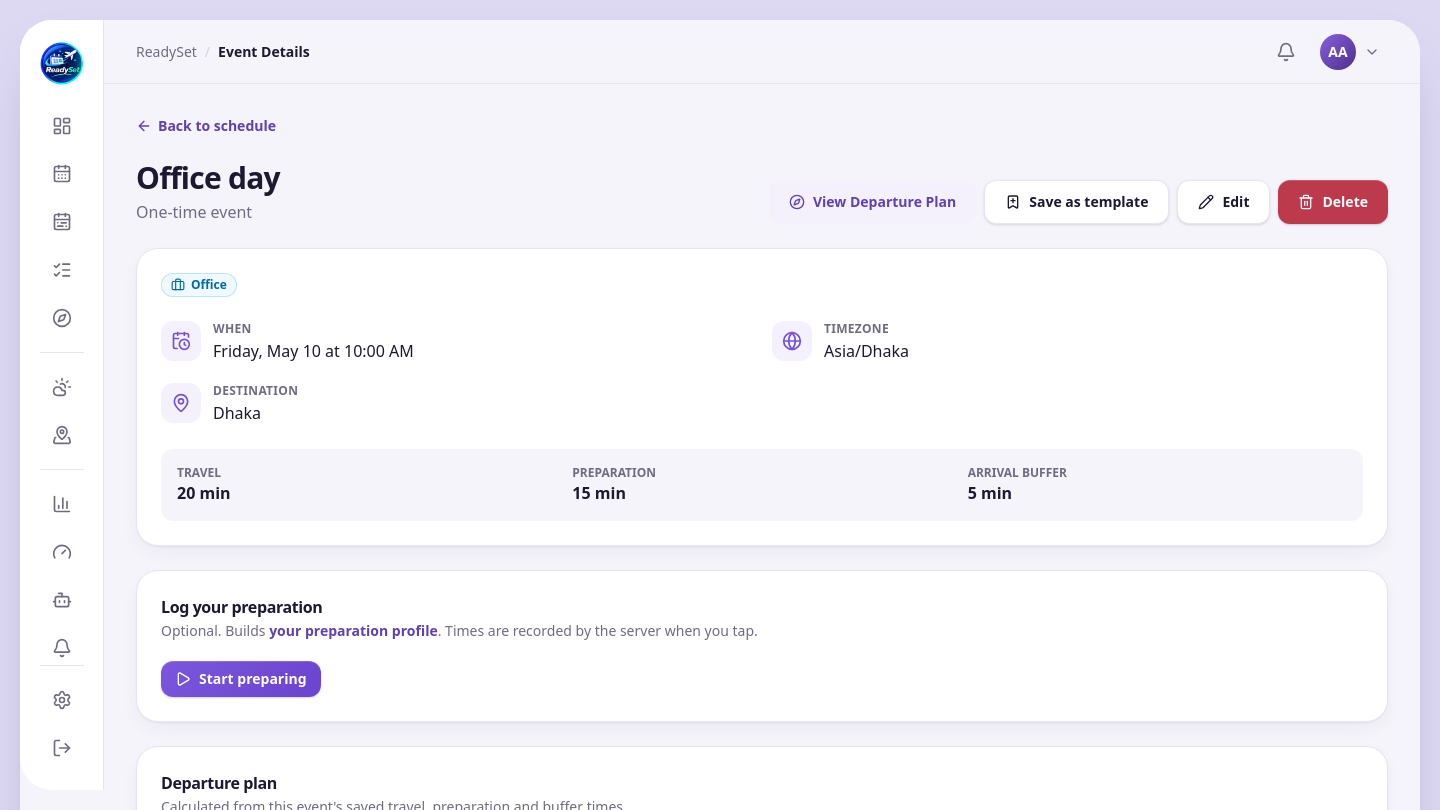
Test case: tap-to-log panel on Event Details › walks start -> ready -> left, sending only the action (never a timestamp)
Click the button "Start preparing" at (241, 679), box [161, 661, 320, 697]
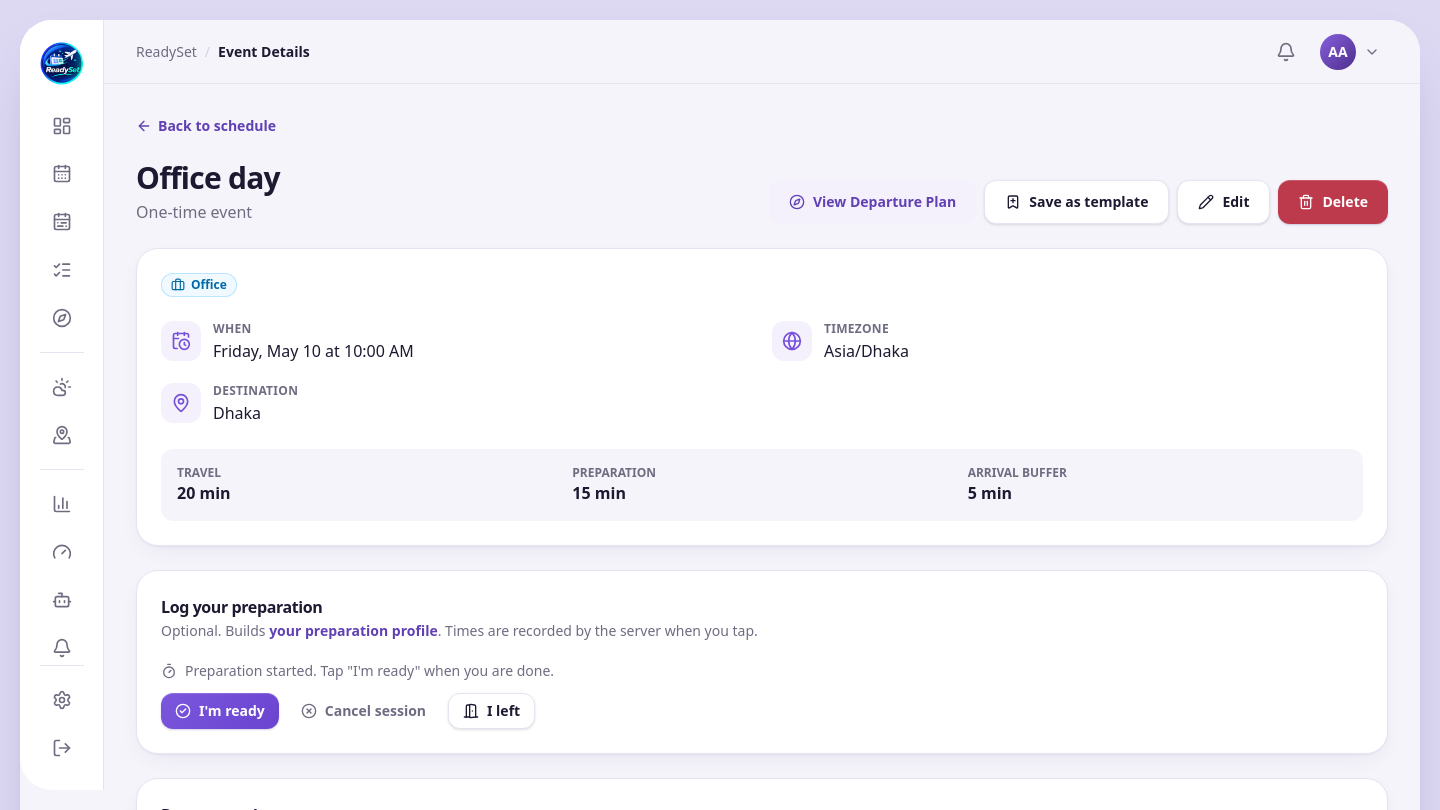
Expected: the button "I'm ready" is shown
Click the button "I'm ready" at (220, 711), box [161, 693, 279, 729]
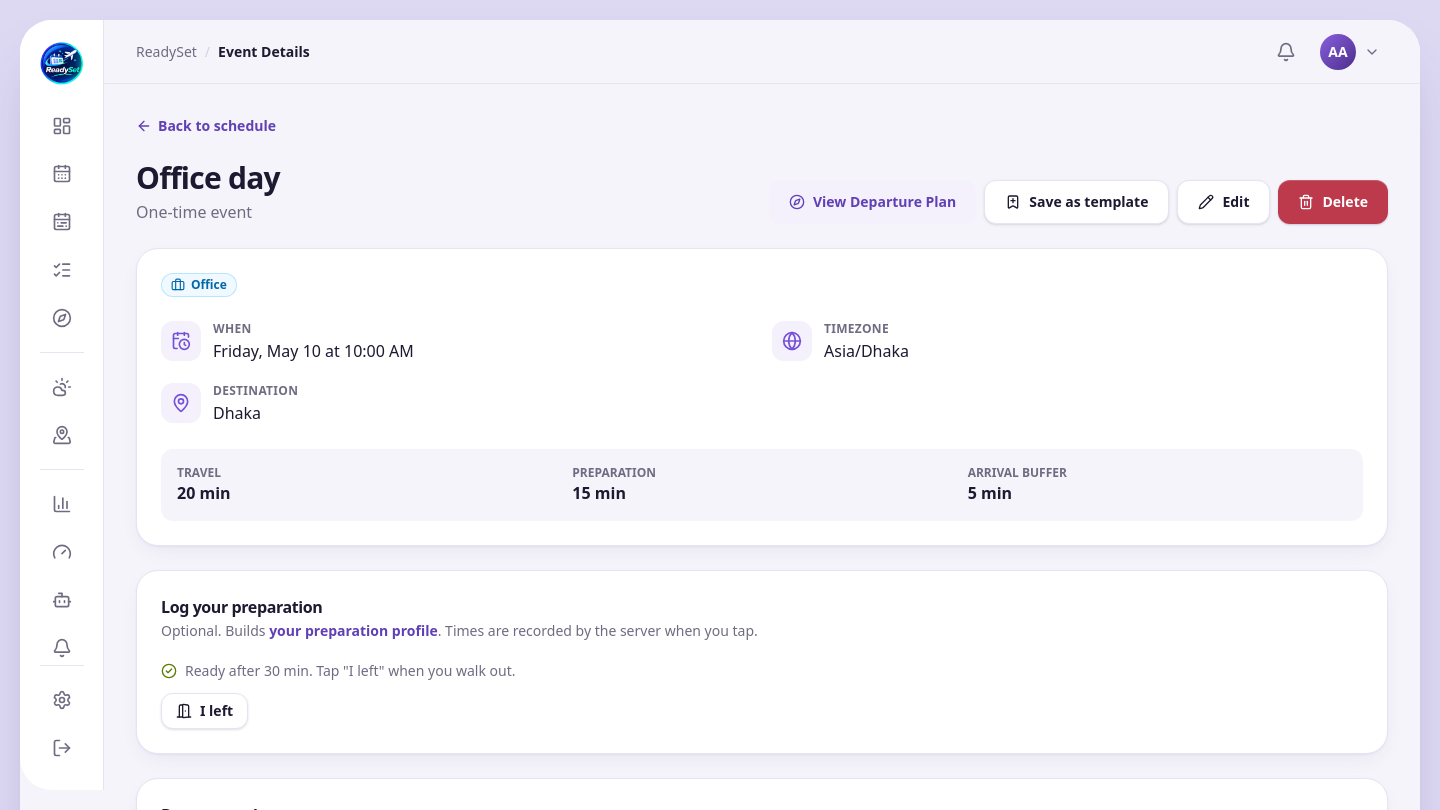
Click the button "I left" at (205, 711), box [161, 693, 248, 729]
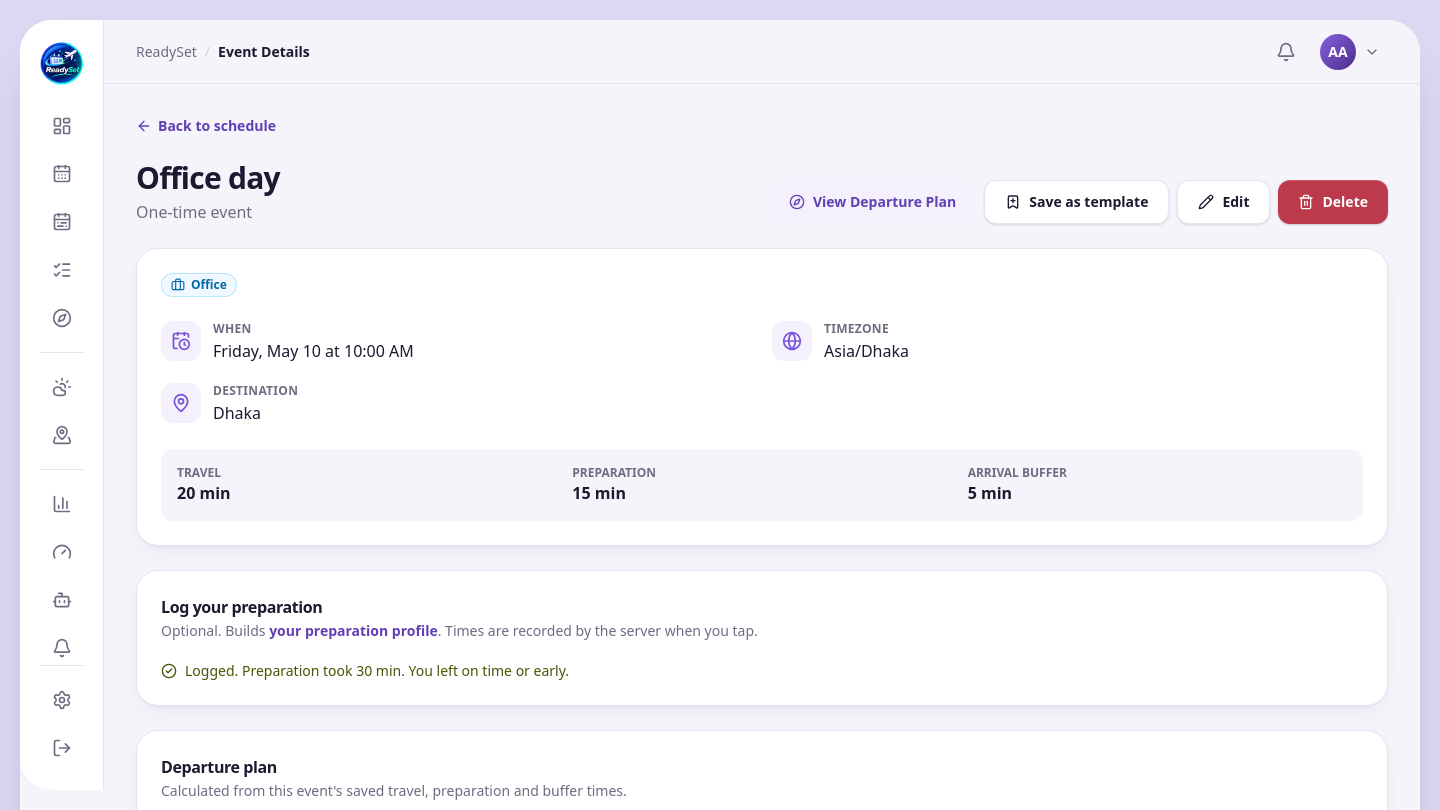
Expected: the text "Logged. Preparation took 30 min. You left on time or early." is shown, [161, 661, 569, 680]
